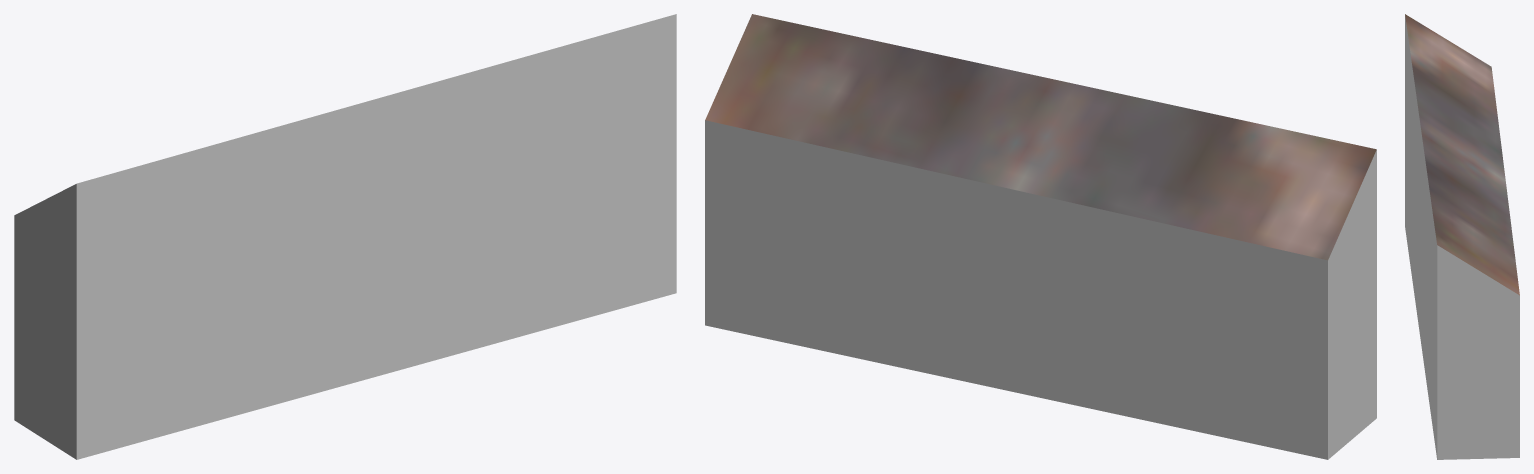
The model's file is DEBW_0010007THYJ.gltf.
3 views of the same model, side by side, from view 1: azimuth 30°, elevation 25°; view 2: azimuth 150°, elevation 25°; view 3: azimuth 270°, elevation 25° (orthographic). The views are drawn at different scales.
Visible parts, largest first — view 1: Z_UP; view 2: Z_UP; view 3: Z_UP.
Part boxes in pixels (box(x1,y1,x2,y2)): Z_UP: box(14, 14, 676, 459); Z_UP: box(705, 14, 1376, 459); Z_UP: box(1405, 14, 1519, 459).
Bounding box in the file's own units: 10.23 × 4.35 × 2.11.
Materials: 2 (1 with a texture image).
